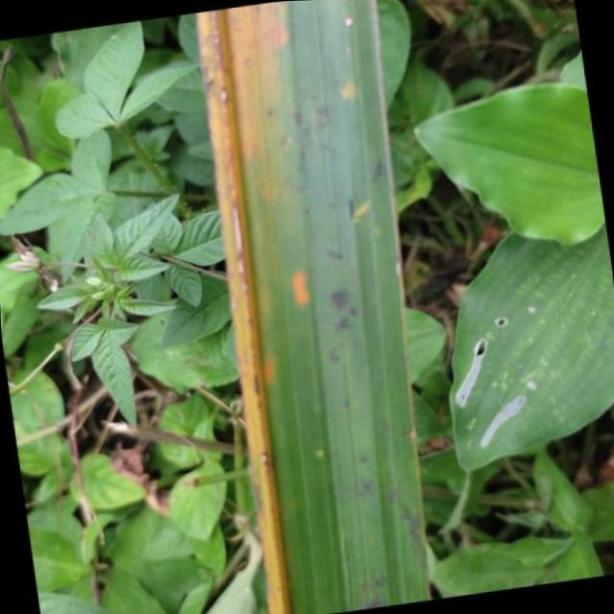Megnesium: (195, 0, 433, 614)
